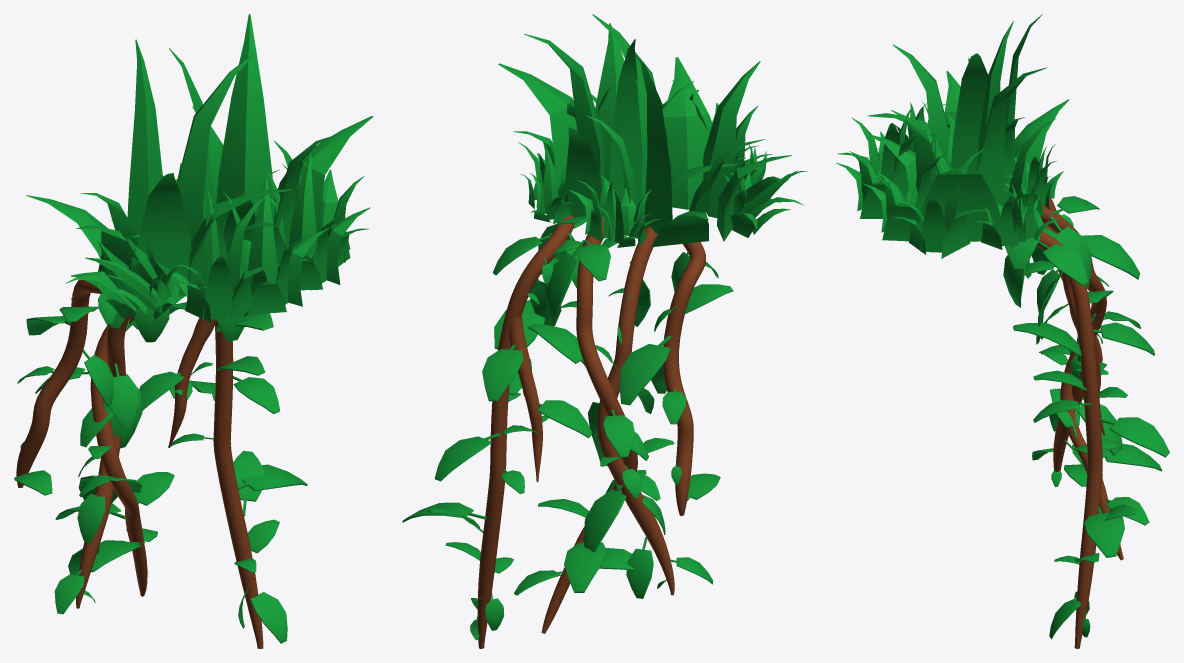
Rendered from grass&vines.glb.
3 renders of one model, left to right at view 1: azimuth 30°, elevation 25°; view 2: azimuth 150°, elevation 25°; view 3: azimuth 270°, elevation 25°, orthographic. The views are drawn at different scales.
Visible parts, largest first — view 1: BezierCurve; view 2: BezierCurve; view 3: BezierCurve.
Boxes of the visible parts, x1=… form: BezierCurve: x1=14, y1=14, x2=373, y2=648; BezierCurve: x1=402, y1=14, x2=807, y2=648; BezierCurve: x1=836, y1=14, x2=1169, y2=648.
Size of the model in its own units: 10.26 by 19.31 by 10.2.
